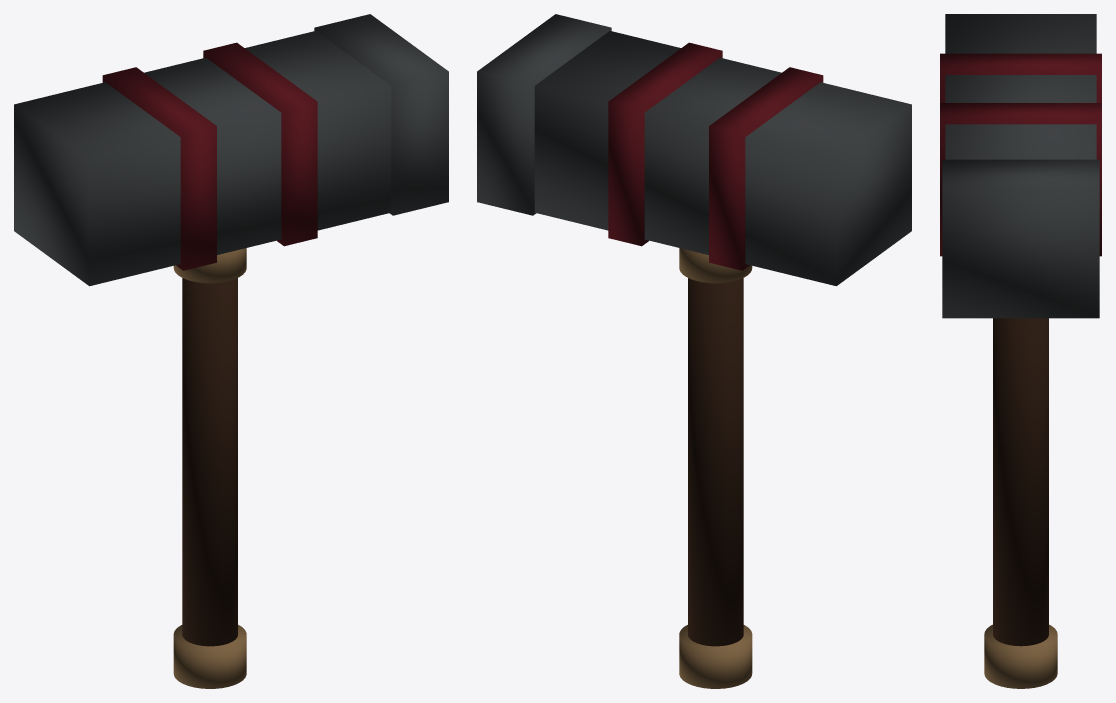
Rendered from item_hammer.glb.
3 renders of one model, left to right at view 1: azimuth 30°, elevation 25°; view 2: azimuth 150°, elevation 25°; view 3: azimuth 270°, elevation 25°, orthographic.
Visible parts, largest first — view 1: Hammer_IronHead, Hammer_WoodHandle, Hammer_HeadSide, Hammer_RagBand, Hammer_RagBand.001, Hammer_Pommel, Hammer_BrassCollar; view 2: Hammer_IronHead, Hammer_WoodHandle, Hammer_HeadSide, Hammer_RagBand, Hammer_RagBand.001, Hammer_Pommel, Hammer_BrassCollar; view 3: Hammer_HeadSide, Hammer_WoodHandle, Hammer_IronHead, Hammer_RagBand.001, Hammer_RagBand, Hammer_Pommel.
Part boxes in pixels (<box>): Hammer_IronHead: <box>14,31,391,286</box>; Hammer_WoodHandle: <box>182,278,237,646</box>; Hammer_HeadSide: <box>314,14,448,215</box>; Hammer_RagBand: <box>102,67,216,270</box>; Hammer_RagBand.001: <box>203,42,317,246</box>; Hammer_Pommel: <box>173,625,246,688</box>; Hammer_BrassCollar: <box>173,248,246,283</box>; Hammer_IronHead: <box>534,31,911,286</box>; Hammer_WoodHandle: <box>688,278,743,646</box>; Hammer_HeadSide: <box>477,14,611,215</box>; Hammer_RagBand: <box>709,67,823,270</box>; Hammer_RagBand.001: <box>608,42,722,246</box>; Hammer_Pommel: <box>679,625,752,688</box>; Hammer_BrassCollar: <box>679,248,752,283</box>; Hammer_HeadSide: <box>942,159,1099,318</box>; Hammer_WoodHandle: <box>993,318,1048,646</box>; Hammer_IronHead: <box>945,14,1096,159</box>; Hammer_RagBand.001: <box>940,103,1101,256</box>; Hammer_RagBand: <box>940,53,1101,102</box>; Hammer_Pommel: <box>984,624,1057,688</box>.
Size of the model in its own units: 0.192 by 0.3 by 0.075.
